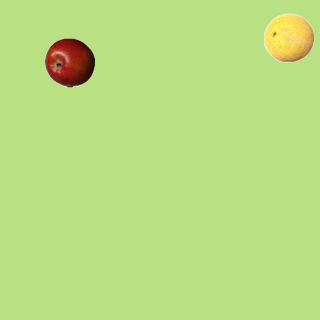Apple Braeburn: (44, 37, 94, 87)
Cantaloupe 1: (263, 12, 313, 62)
